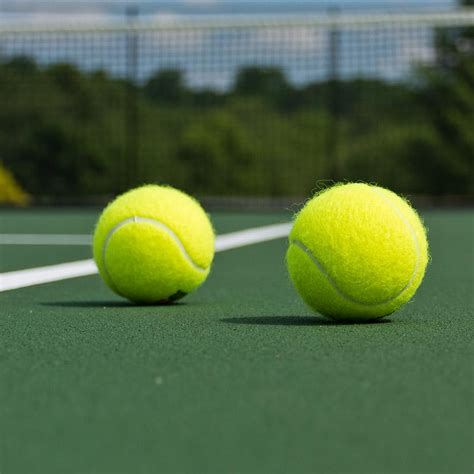tennis_ball: (284, 181, 429, 323), (92, 183, 215, 305)
